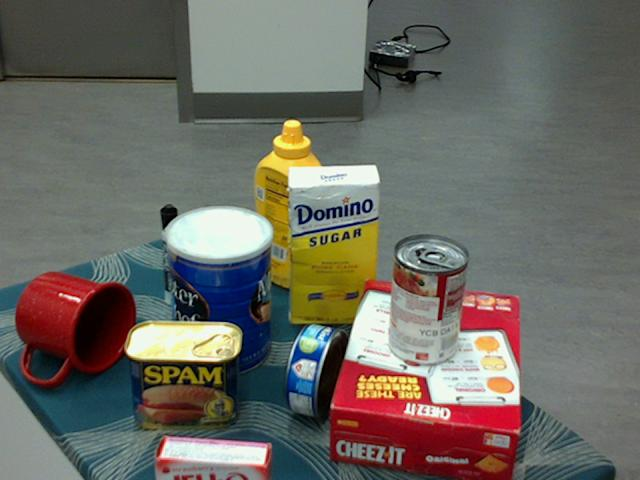cracker_box: (328, 281, 520, 479)
gelatin_box: (152, 434, 268, 479)
large_marker: (160, 203, 179, 304)
master_chef_can: (165, 206, 272, 379)
mug: (15, 271, 135, 384)
mustard_bottle: (253, 120, 327, 292)
potted_meat_can: (124, 319, 241, 428)
sugar_box: (288, 166, 379, 325)
tomato_soup_can: (386, 235, 468, 366)
tuna_fish_can: (284, 324, 348, 419)
